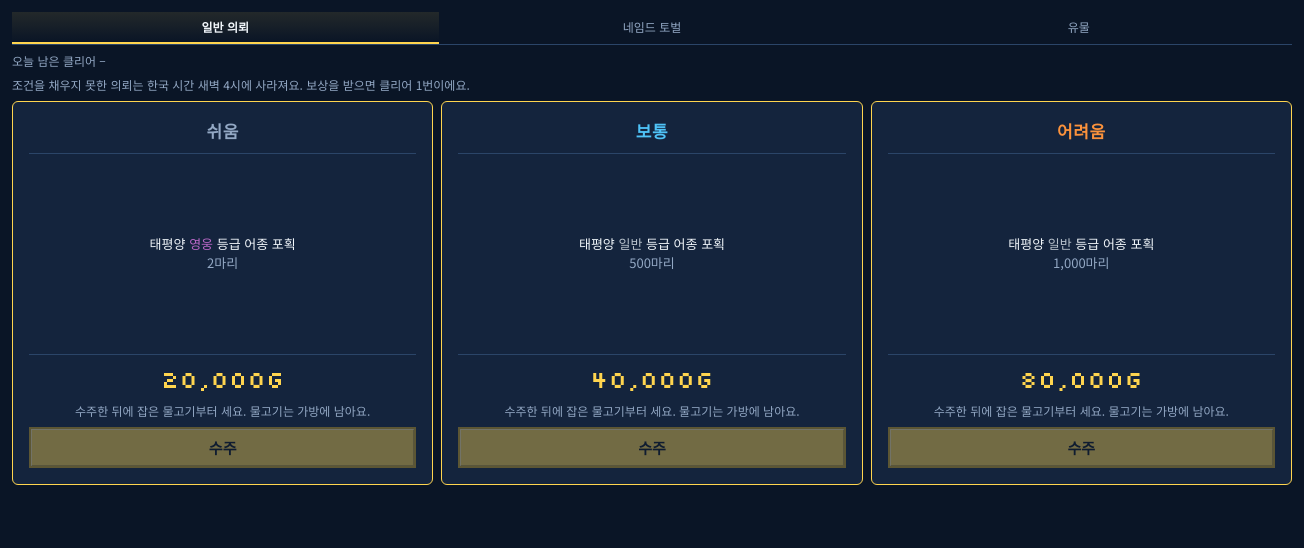
BountyPanel › 오늘 네임드 토벌을 클리어했으면 네임드 수주 버튼이 막히고 이유를 안내한다
Click the button "네임드 토벌". click: click(652, 28)
box: [439, 12, 865, 44]
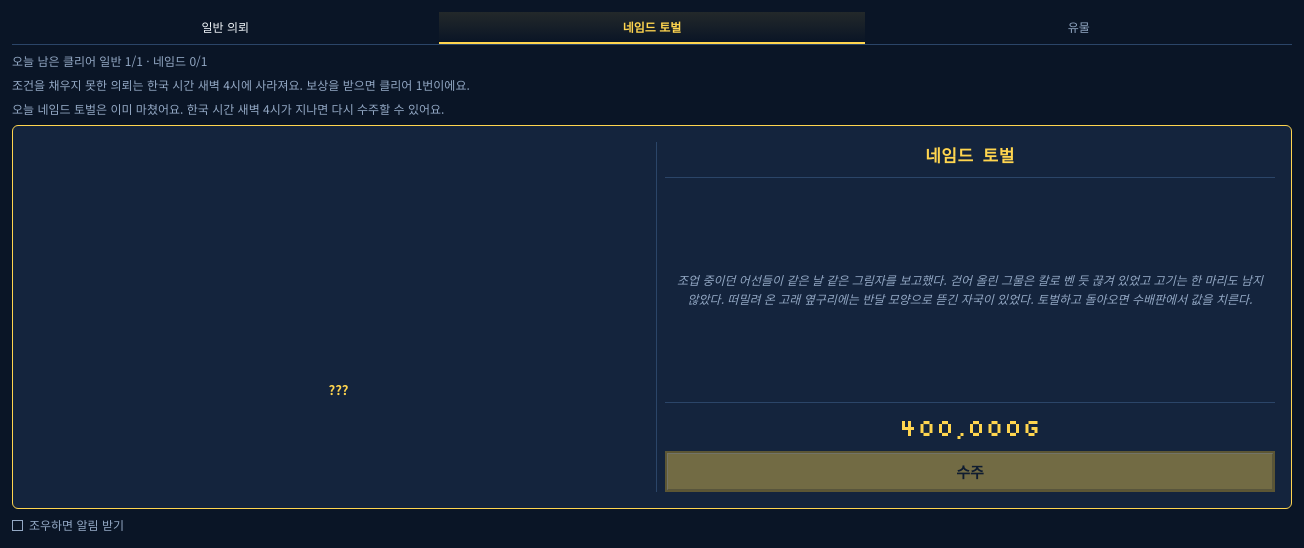
expect the button "수주" is disabled: met, box [665, 451, 1275, 492]
expect the text "오늘 네임드 토벌은 이미 마쳤어요. 한국 시간 새벽 4시가 지나면 다시 수주할 수 있어요." is shown: met, box [12, 100, 444, 117]
